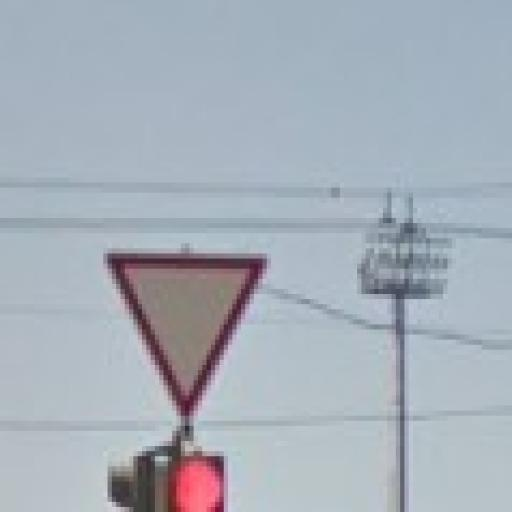traffic_sign: (104, 255, 268, 417)
